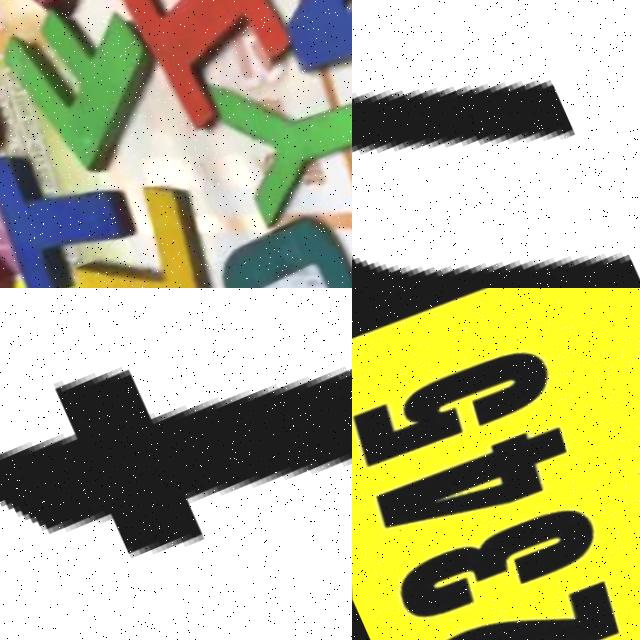2: (379, 545, 639, 640)
3: (363, 470, 617, 640)
4: (352, 383, 607, 589)
5: (352, 306, 579, 520)
D: (201, 202, 352, 288)
F: (0, 0, 177, 174)
I: (87, 0, 317, 145)
L: (47, 174, 237, 288)
M: (352, 0, 640, 288)
N: (232, 0, 352, 96)
T: (0, 288, 352, 636), (0, 121, 142, 288)
Y: (196, 29, 352, 222)
